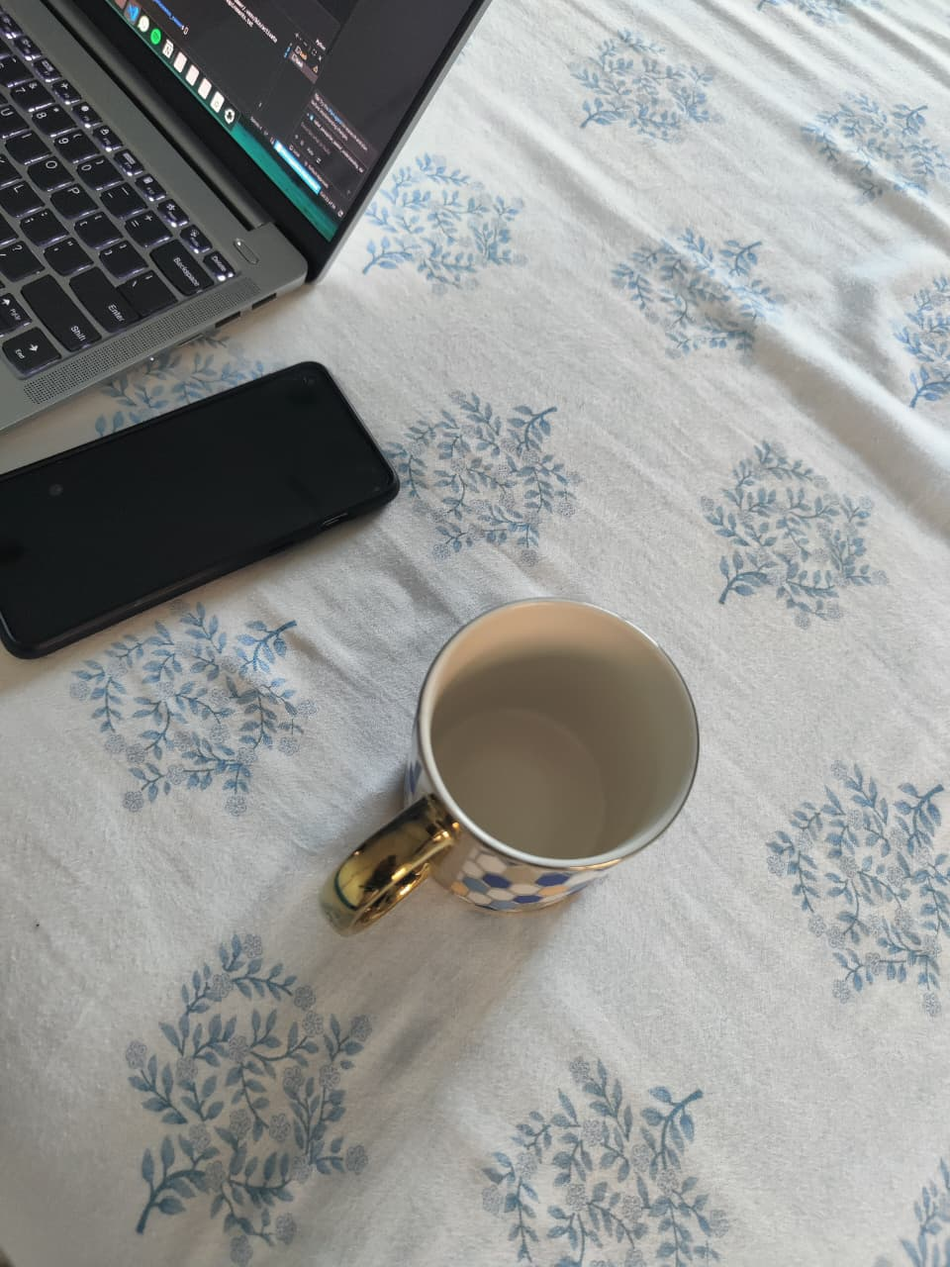cup: (331, 596, 700, 966)
